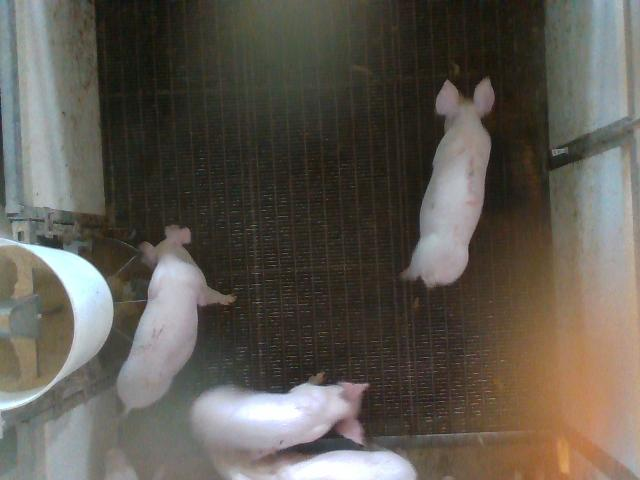pig-3: (401, 78, 495, 288)
